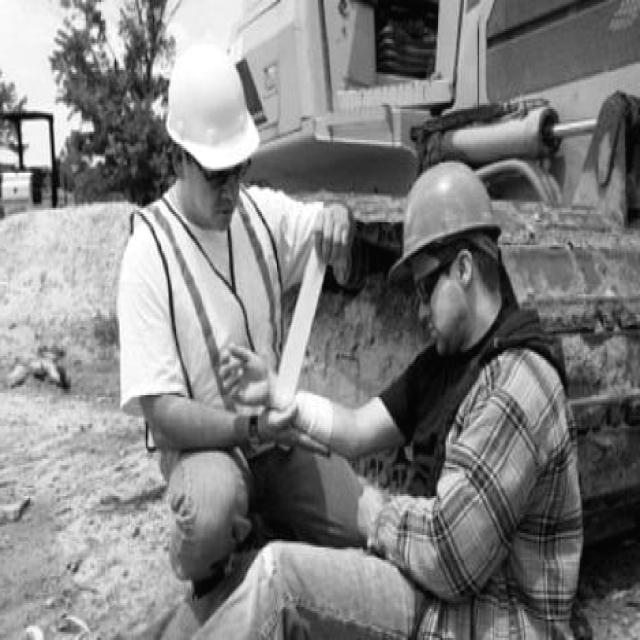face_nomask: (404, 245, 471, 354), (191, 164, 243, 237)
glasses: (200, 152, 254, 192), (406, 268, 441, 308)
hand_noglove: (209, 346, 269, 414), (260, 410, 324, 467), (308, 200, 351, 268)
head_helmet: (390, 154, 501, 278), (162, 45, 266, 173)
person: (123, 43, 345, 539), (374, 156, 585, 636)
vest: (125, 192, 288, 468)
